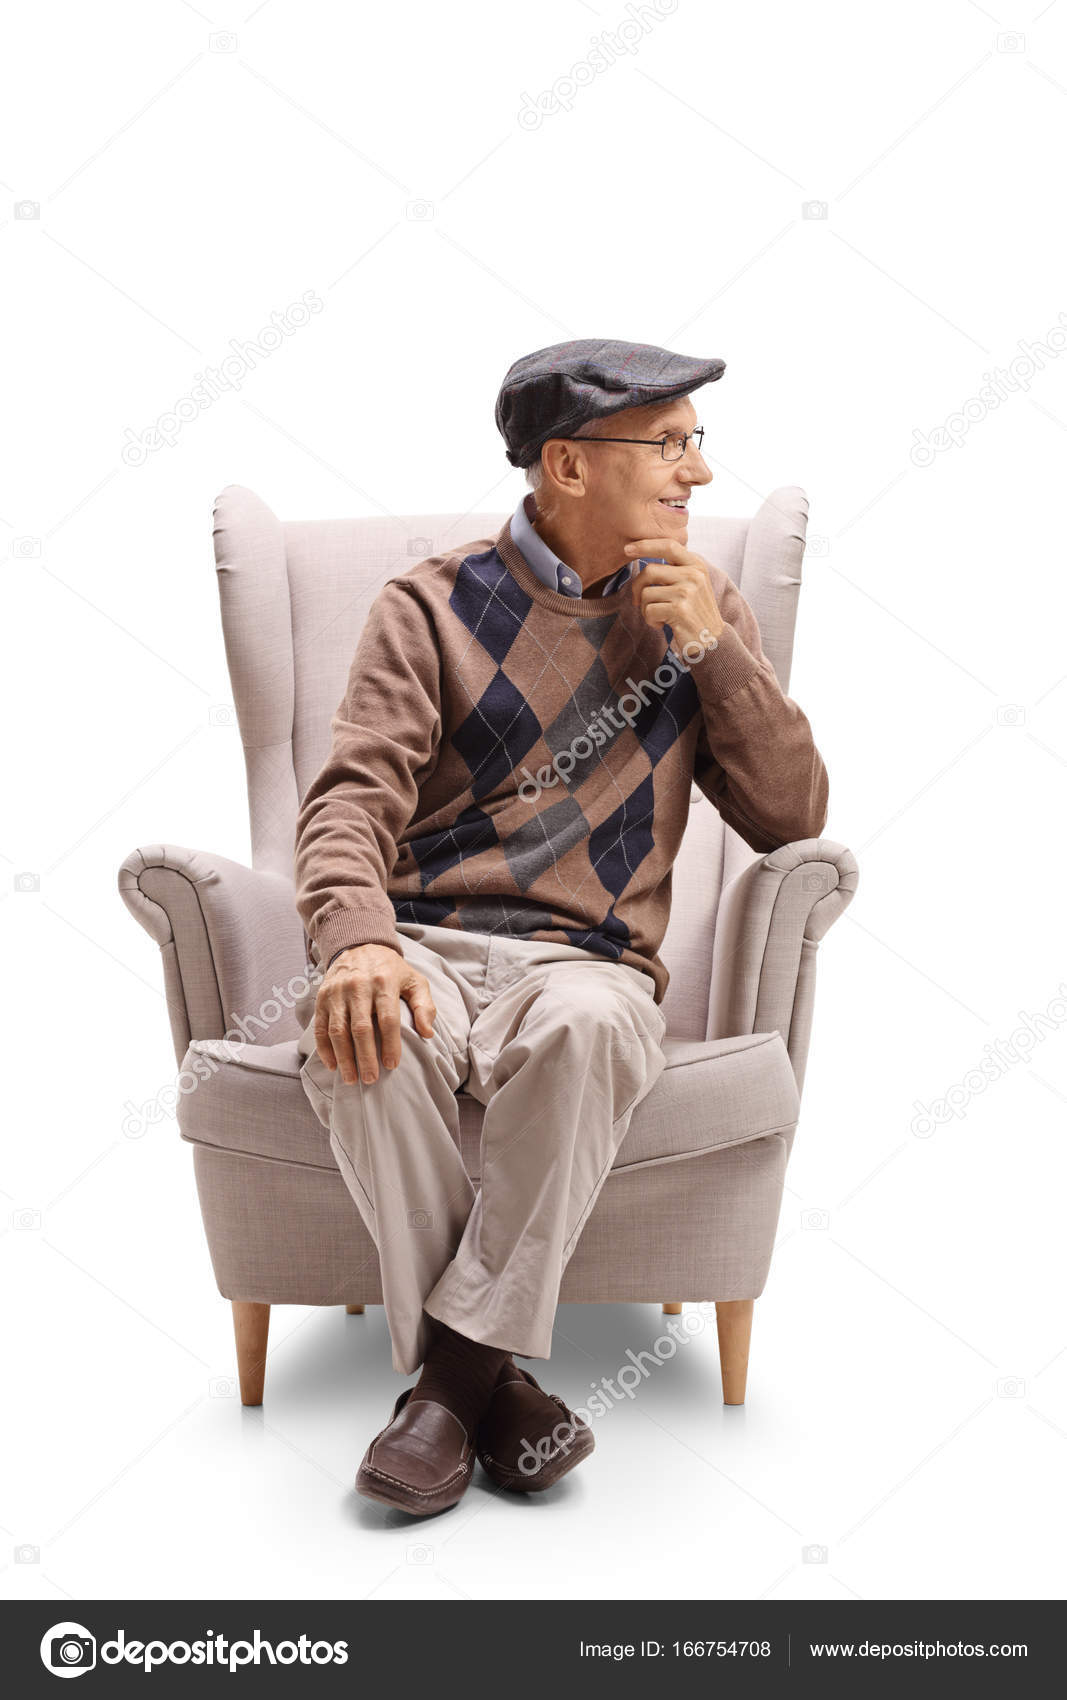chairs: (111, 486, 868, 1416)
